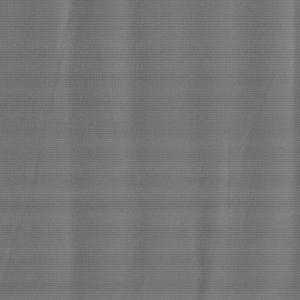Wrinkle: (51, 1, 300, 300)
